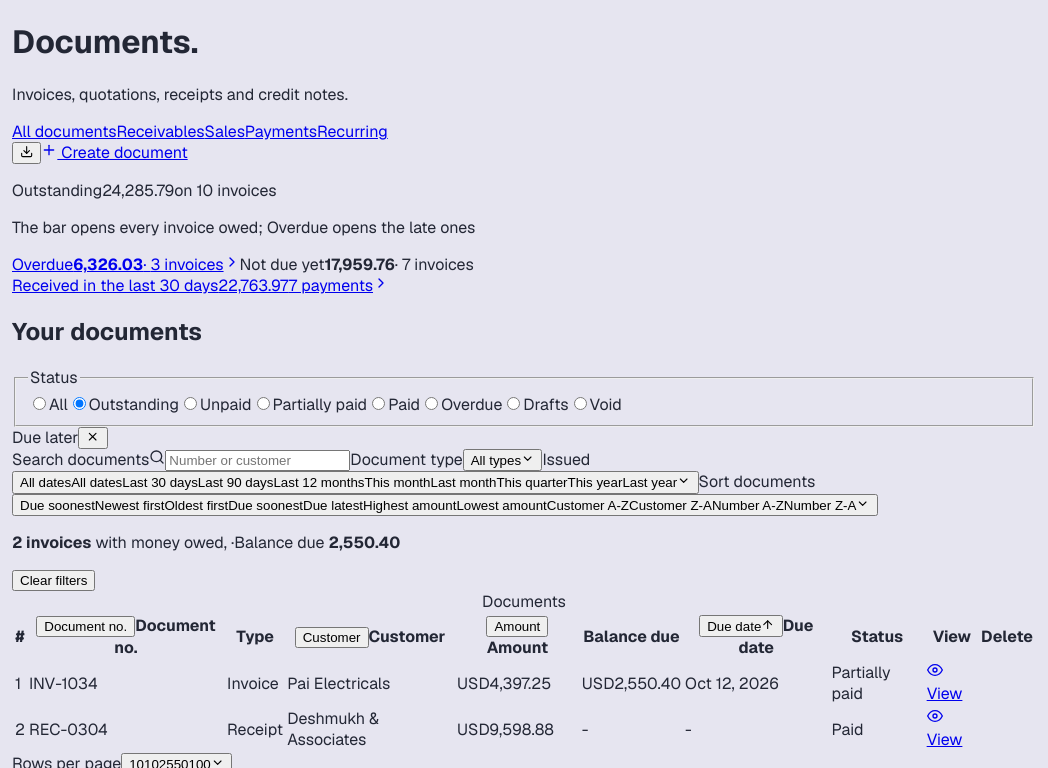
Scenario: drops due week off Outstanding
Check: the table is shown, box [12, 591, 1036, 753]
What coordinates should you click on to do the following:
click the radio button named "document-status"
I would click on:
 (40, 403)
Its box is [33, 397, 46, 410].
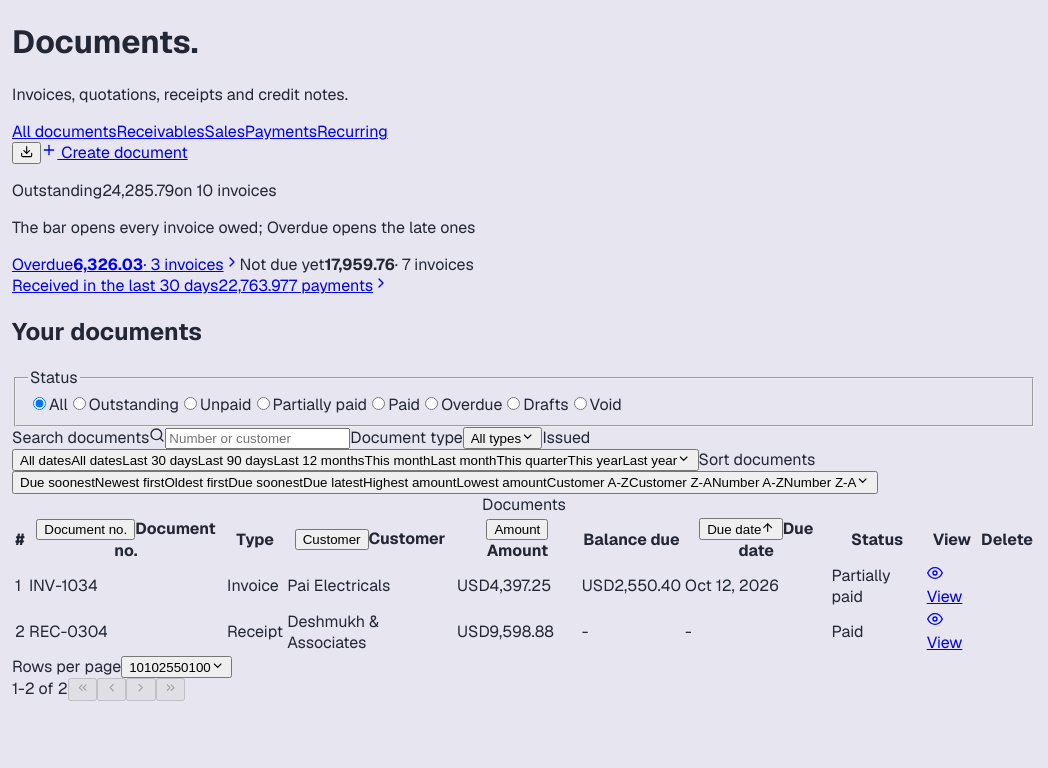
Check: the text "Due later" is gone
